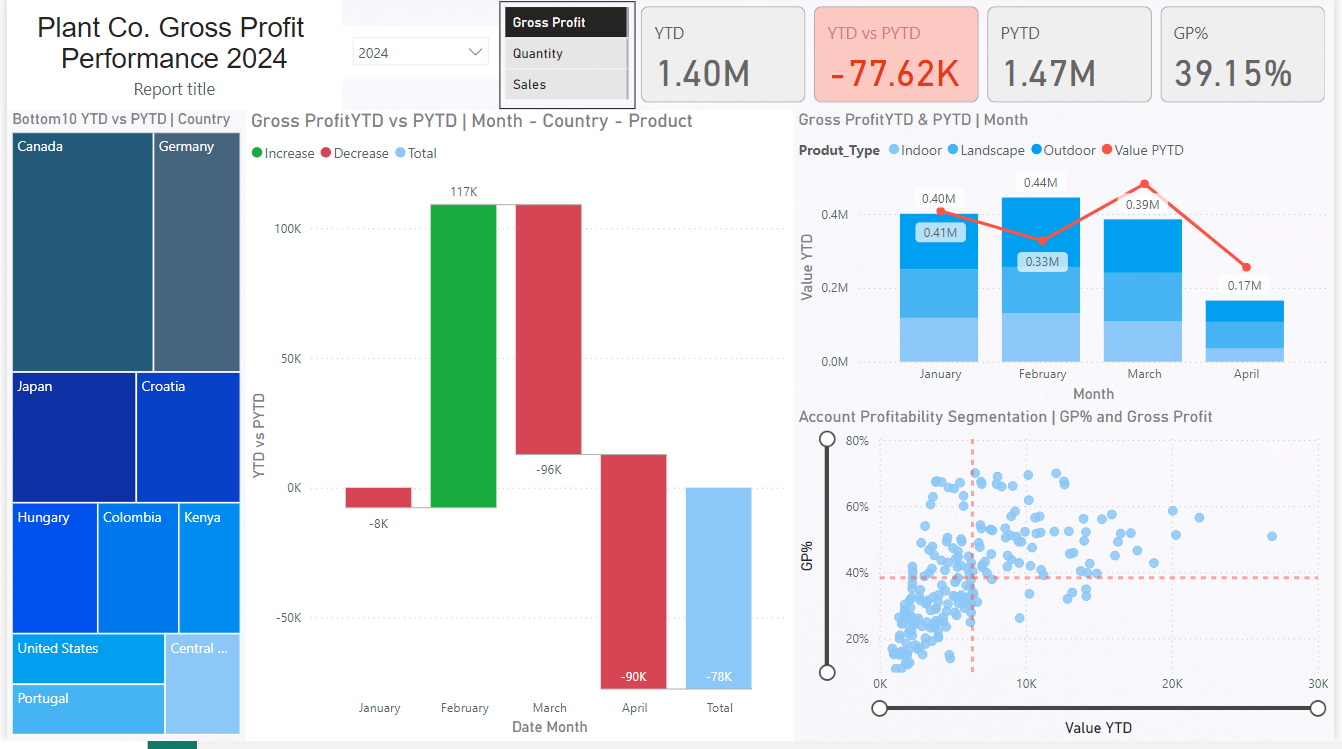

This screenshot's page, from the dashboard's own definition file:
{"tool":"powerbi","page":{"name":"Performance Report","canvas":[1280,720],"ordinal":0},"visuals":[{"type":"cardVisual","fields":{"Data":["_Measures.S_YTD","_Measures.YTD vs PYTD","_Measures.S_PYTD","_Measures.GP%"]},"box":[606.8,6,673.2,103.8],"z":0},{"type":"advancedSlicerVisual","fields":{"Values":["Slc_Values.Values"]},"box":[475.3,6,131.5,103.8],"z":1000},{"type":"slicer","fields":{"Values":["Dim_Date.Date.Variation.Date Hierarchy.Year"]},"box":[323.8,30,151.2,51.2],"z":2000},{"type":"treemap","title":"Bottom10 YTD vs PYTD | Country","fields":{"Values":["_Measures.YTD vs PYTD"],"Group":["Dim_Accounts.country"]},"box":[0,111,230.4,608],"z":3000},{"type":"waterfallChart","fields":{"Y":["_Measures.YTD vs PYTD"],"Category":["Dim_Date.Date.Variation.Date Hierarchy.Month","Dim_Accounts.country","Dim_Product.Produt_Type","Dim_Product.Product_Name"]},"box":[230.5,111,528.4,608.5],"z":4000},{"type":"lineStackedColumnComboChart","fields":{"Y":["_Measures.S_YTD"],"Y2":["_Measures.S_PYTD"],"Category":["Dim_Date.Date.Variation.Date Hierarchy.Quarter","Dim_Date.Date.Variation.Date Hierarchy.Month"],"Series":["Dim_Product.Produt_Type"]},"box":[758.9,111,521.4,286.7],"z":5000},{"type":"scatterChart","fields":{"Y":["_Measures.GP%"],"X":["_Measures.S_YTD"],"Category":["Dim_Accounts.Account"]},"box":[759,398,521,322],"z":6000},{"type":"card","fields":{"Values":["_Measures.Report title"]},"box":[0,0,323.3,111],"z":7000}]}

Visuals, with their boxes in screenshot pixels (x1, y1, x2, y2), scaled from the page's 1280x720 canvas onto the 1342x749 screenshot:
cardVisual - _Measures.S_YTD x _Measures.YTD vs PYTD: l=636, t=6, r=1341, b=114
advancedSlicerVisual - Slc_Values.Values: l=498, t=6, r=636, b=114
slicer - Dim_Date.Date.Variation.Date Hierarchy.Year: l=339, t=31, r=498, b=84
"Bottom10 YTD vs PYTD | Country" treemap: l=0, t=115, r=242, b=748
waterfallChart - _Measures.YTD vs PYTD x Dim_Date.Date.Variation.Date Hierarchy.Month: l=242, t=115, r=796, b=748
lineStackedColumnComboChart - _Measures.S_YTD x _Measures.S_PYTD: l=796, t=115, r=1341, b=414
scatterChart - _Measures.GP% x _Measures.S_YTD: l=796, t=414, r=1341, b=748
card - _Measures.Report title: l=0, t=0, r=339, b=115
